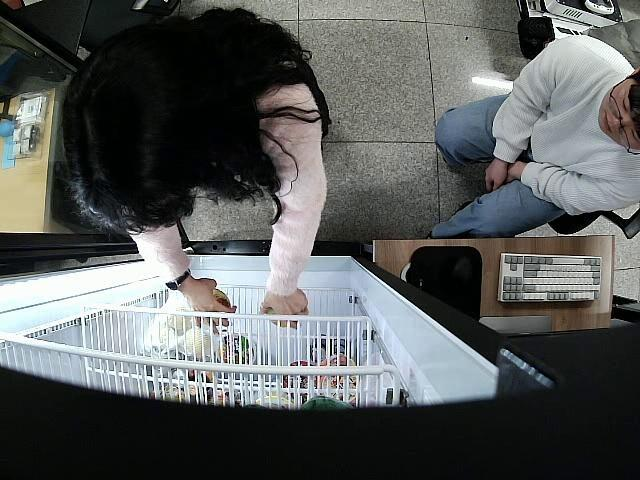04_chapagetti_S: (200, 286, 232, 330), (265, 303, 303, 331)
